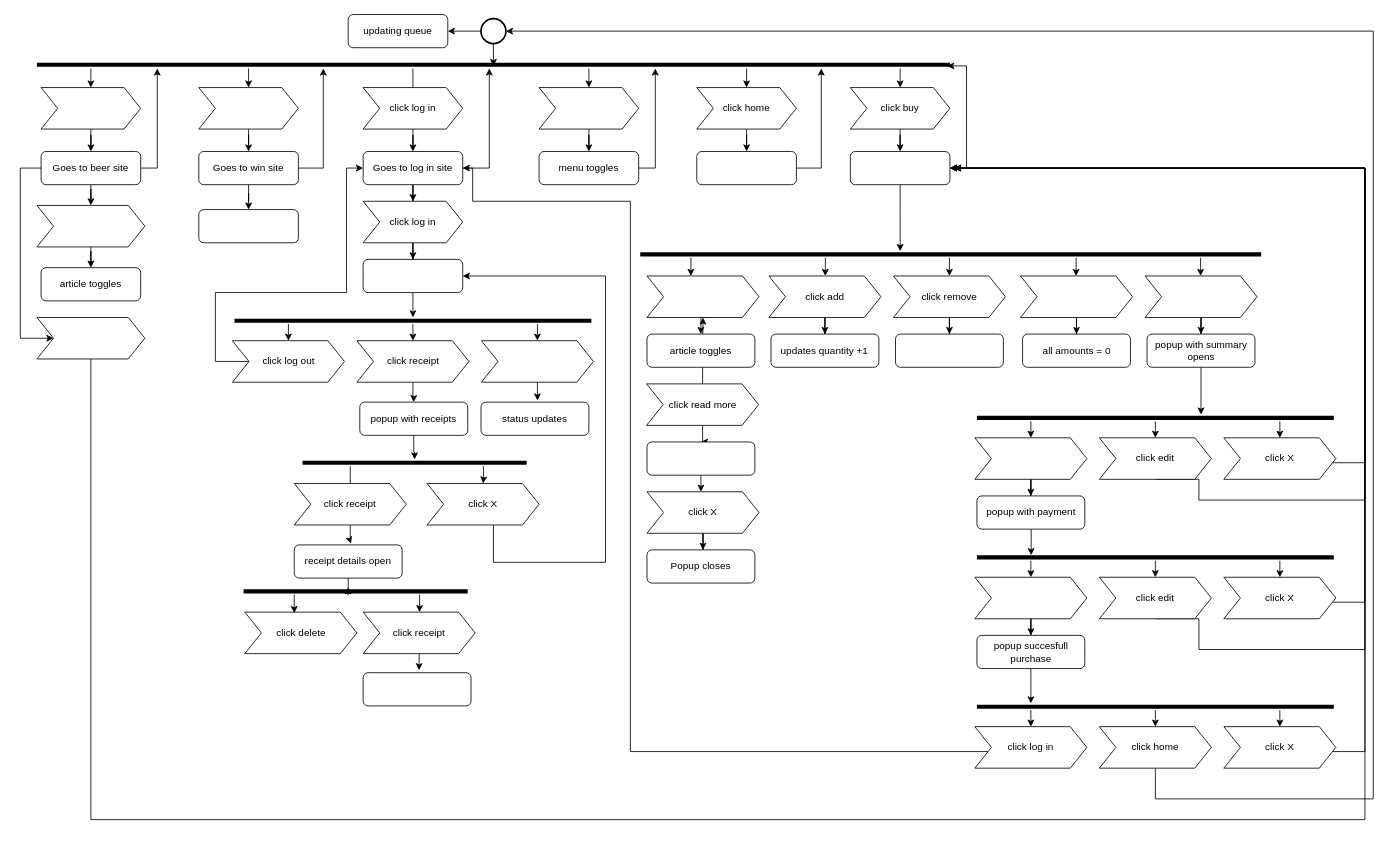
This 1394x841 diagram has some shape labels left out. The box of each missing label's shape, as (x1, y1, x2, y2) in pixels:
click arrow: (538, 87, 639, 129)
click beer: (40, 87, 141, 129)
click buy beer: (36, 317, 145, 359)
click check: (481, 340, 593, 382)
click checkout: (974, 437, 1087, 479)
click expander: (36, 205, 145, 247)
click on beer: (646, 275, 759, 317)
click pay: (974, 576, 1087, 619)
click reset: (1020, 275, 1133, 317)
click view cart: (1144, 275, 1257, 317)
click win: (198, 87, 298, 129)
data updates: (198, 209, 298, 243)
Goes to home: (696, 151, 796, 185)
Goes to order site: (850, 151, 950, 185)
Popup opens: (646, 441, 755, 475)
popup with account: (362, 259, 463, 293)
receipt details close: (362, 672, 471, 706)
updates quantity -1: (895, 333, 1003, 367)
